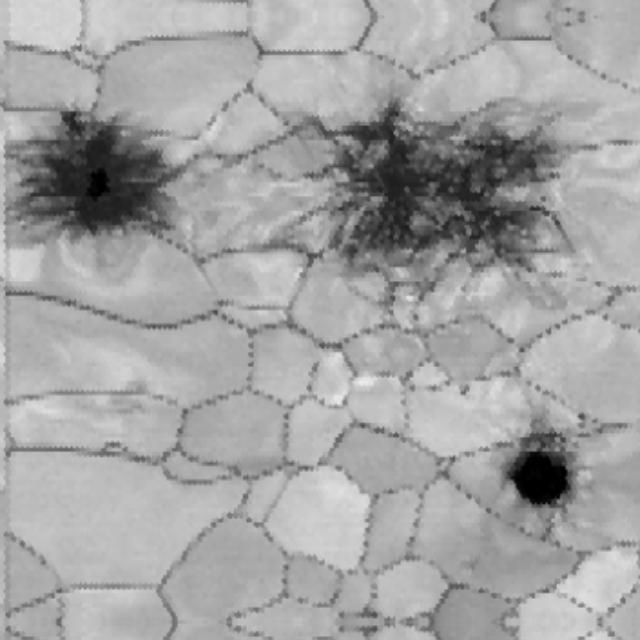good_void: (291, 95, 582, 318), (0, 111, 185, 251), (499, 443, 580, 512), (457, 381, 474, 402), (573, 410, 590, 429), (455, 285, 471, 297), (408, 313, 422, 324)
